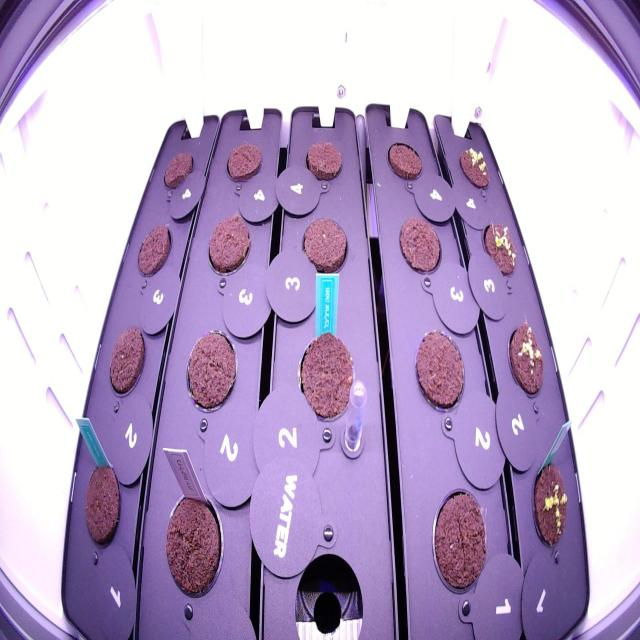germination: (528, 448, 574, 560), (504, 315, 549, 402), (476, 210, 521, 282), (454, 140, 494, 196)
pod: (426, 482, 493, 612), (158, 479, 226, 605), (293, 321, 362, 438), (179, 322, 242, 422), (412, 323, 470, 418), (78, 454, 125, 554), (294, 209, 352, 284), (102, 316, 150, 404), (200, 205, 254, 280), (392, 210, 445, 284), (134, 215, 176, 289), (298, 134, 346, 192), (380, 132, 428, 188), (220, 132, 266, 190), (159, 142, 199, 194)
